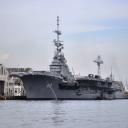Portanaves: (9, 14, 122, 102)
